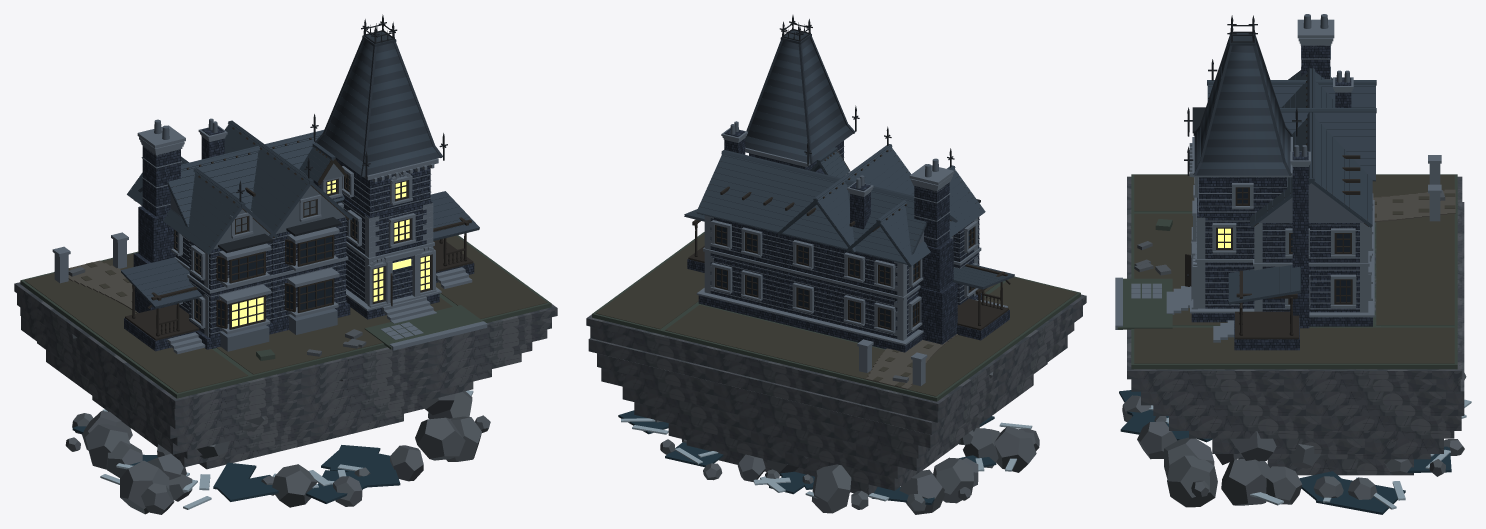
Rendered from casa-da-costa-pisos.glb.
3 views of the same model, side by side, from view 1: azimuth 30°, elevation 25°; view 2: azimuth 150°, elevation 25°; view 3: azimuth 270°, elevation 25° (orthographic). The views are drawn at different scales.
Visible parts, largest first — view 1: terra-batida (×3), rochedo (×10), fiada-do-corucheu (×9), estrato-1, borda-rochosa, estrato-3, estrato-2, estrato-5, estrato-4, pocas-de-mar (×4), fiada-de-telhas (×4), parede-da-torre (×3) (+16 smaller); view 2: terra-batida (×3), fiada-de-telhas (×11), parede-fundo (×2), rochedo (×6), estrato-3, estrato-2, estrato-1, estrato-5, fiada-do-corucheu (×8), borda-rochosa, estrato-4, estrato-6 (+15 smaller); view 3: terra-batida (×4), rochedo (×9), fiada-do-corucheu (×13), borda-rochosa, estrato-2, estrato-4, estrato-1, parede-leste (×2), fiada-de-telhas (×7), estrato-3, terreno-leste, estrato-6 (+24 smaller).
Boxes of the visible parts, x1,y1,x2,y2 form: terra-batida (×3): [24, 235, 547, 392]; rochedo (×10): [85, 391, 481, 514]; fiada-do-corucheu (×9): [317, 90, 440, 176]; estrato-1: [17, 293, 551, 420]; borda-rochosa: [14, 282, 557, 408]; estrato-3: [21, 316, 532, 438]; estrato-2: [20, 307, 547, 428]; estrato-5: [46, 350, 491, 454]; estrato-4: [37, 342, 521, 445]; pocas-de-mar (×4): [213, 446, 400, 501]; fiada-de-telhas (×4): [168, 126, 317, 193]; parede-da-torre (×3): [346, 203, 426, 301]; terra-batida (×3): [595, 233, 1076, 396]; fiada-de-telhas (×11): [696, 149, 926, 263]; parede-fundo (×2): [711, 217, 897, 338]; rochedo (×6): [737, 426, 1036, 514]; estrato-3: [597, 335, 1067, 448]; estrato-2: [588, 323, 1074, 434]; estrato-1: [590, 306, 1082, 422]; estrato-5: [622, 374, 1033, 470]; fiada-do-corucheu (×8): [745, 90, 853, 163]; borda-rochosa: [586, 294, 1086, 411]; estrato-4: [601, 363, 1047, 458]; estrato-6: [634, 402, 910, 478]; terra-batida (×4): [1134, 175, 1454, 363]; rochedo (×9): [1137, 421, 1377, 507]; fiada-do-corucheu (×13): [1194, 61, 1290, 175]; borda-rochosa: [1127, 176, 1462, 379]; estrato-2: [1141, 202, 1464, 405]; estrato-4: [1169, 416, 1461, 430]; estrato-1: [1131, 379, 1460, 391]; parede-leste (×2): [1262, 223, 1359, 312]; fiada-de-telhas (×7): [1208, 72, 1375, 199]; estrato-3: [1153, 405, 1464, 415]; terreno-leste: [1131, 326, 1457, 369]; estrato-6: [1212, 438, 1443, 453].
Size of the model in its own units: 30.48 by 33.13 by 23.36.
Materials: 33 (7 with a texture image).
